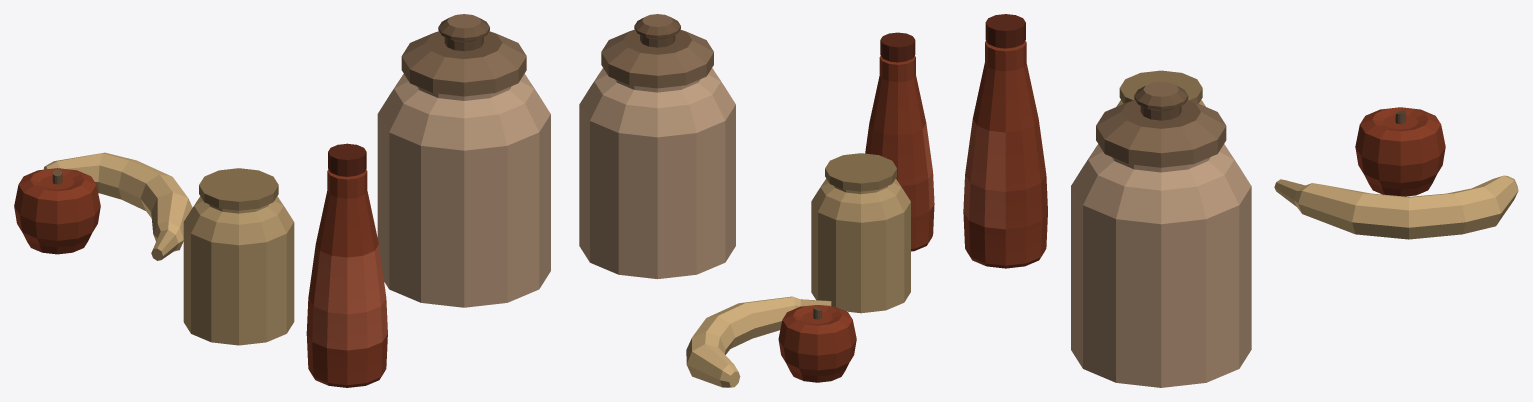
Rendered from FridgeItems.fbx.
3 views of the same model, side by side, from view 1: azimuth 30°, elevation 25°; view 2: azimuth 150°, elevation 25°; view 3: azimuth 270°, elevation 25° (orthographic). The views are drawn at different scales.
Parts seen in each view (by area): view 1: CookieJar, PickleJar, ketchupBottle, Apple, banana; view 2: CookieJar, PickleJar, ketchupBottle, banana, Apple; view 3: CookieJar, ketchupBottle, banana, Apple, PickleJar.
Part boxes in pixels (x1,y1,x2,y2): CookieJar: (377, 14, 550, 307); PickleJar: (183, 168, 294, 345); ketchupBottle: (306, 143, 387, 387); Apple: (14, 168, 100, 254); banana: (43, 152, 192, 260); CookieJar: (579, 14, 735, 279); PickleJar: (811, 153, 910, 313); ketchupBottle: (865, 32, 934, 251); banana: (686, 296, 831, 387); Apple: (778, 305, 856, 382); CookieJar: (1071, 81, 1251, 387); ketchupBottle: (963, 14, 1047, 268); banana: (1274, 175, 1518, 239); Apple: (1355, 107, 1445, 196); PickleJar: (1116, 70, 1205, 106).
Bounding box in the file's own units: 490 × 296 × 559.
1 material, 1 textured.
